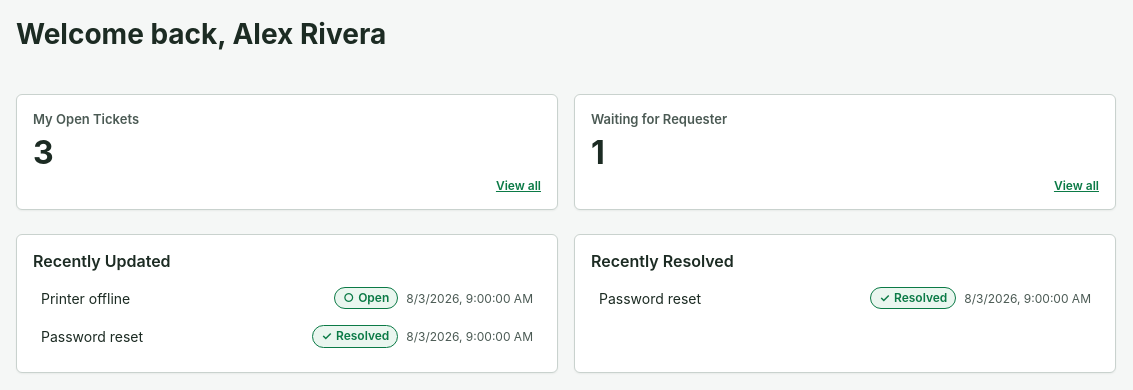
Scenario: Requester Dashboard (ui-spec.md §4.2) › clicking a count card opens My Tickets filtered by the same statuses (BR-25)
Click the link with aria-label "View all: My Open Tickets".
click(518, 185)  # box 496,178 -> 541,193
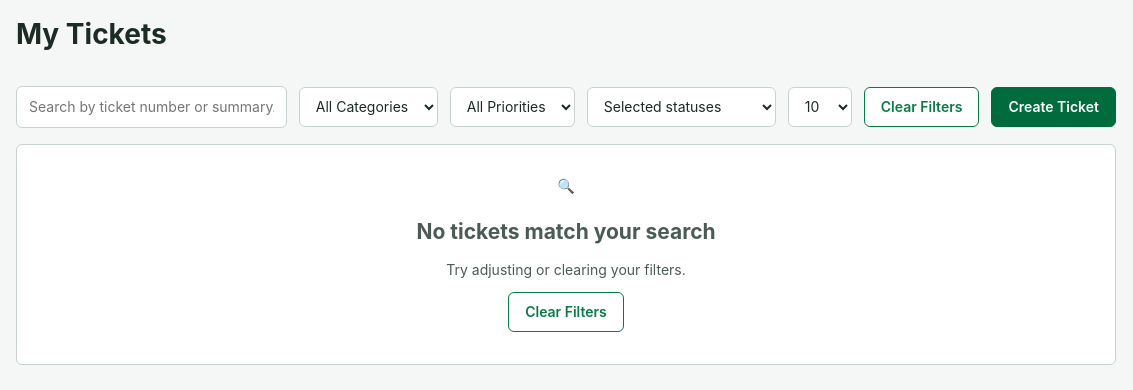
Result: the heading "My Tickets" is shown at 16,17 -> 167,51
